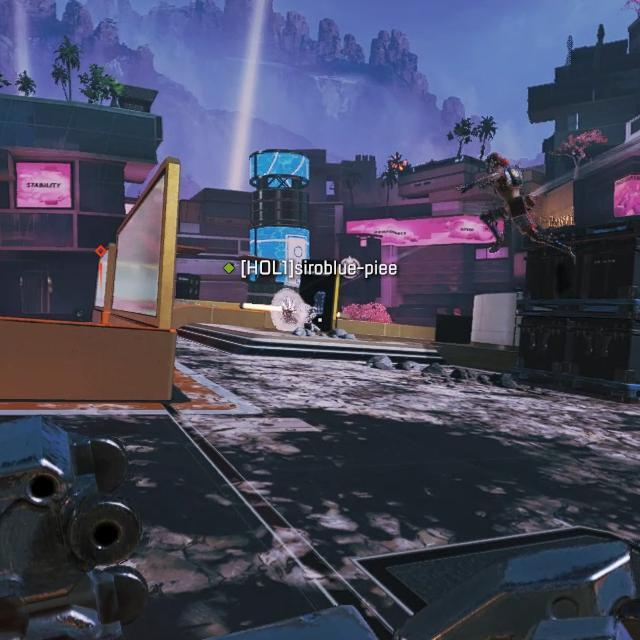avatar: (477, 151, 537, 256)
